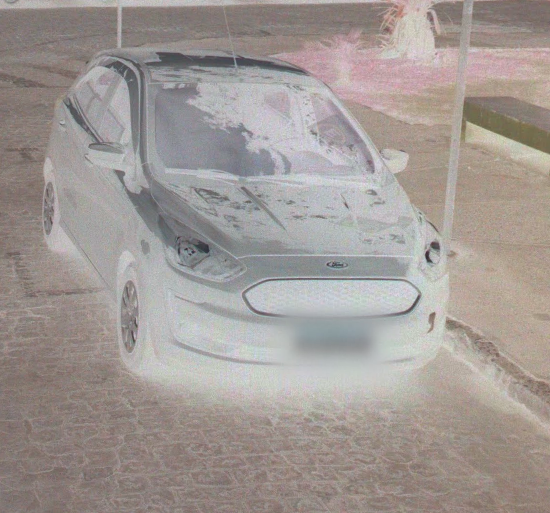car: (40, 5, 451, 376)
